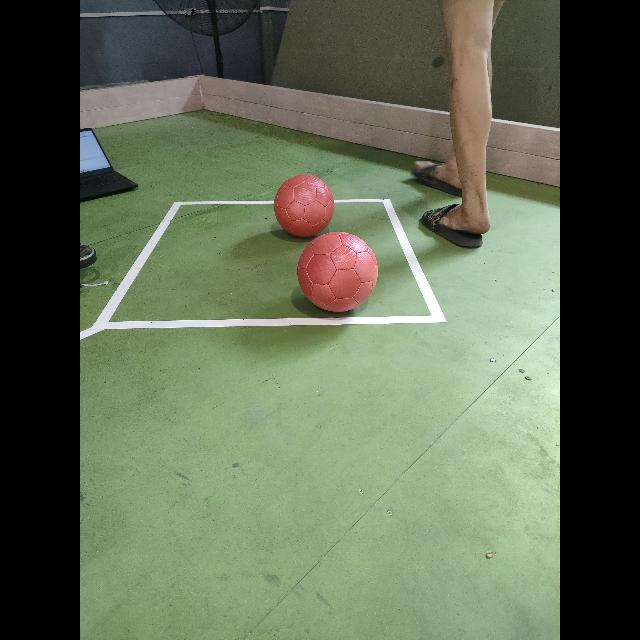R: (297, 232, 377, 310), (274, 174, 334, 236)
